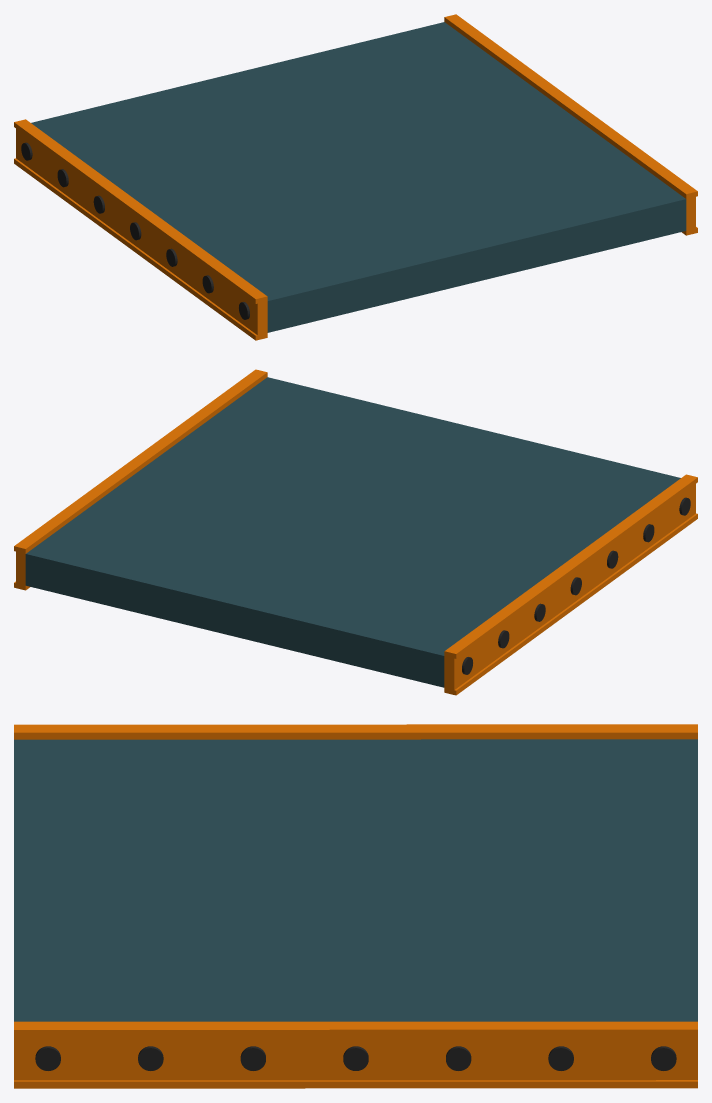
The model's file is ConveyorBeltVisual.fbx.
The picture shows the model from 3 angles, top to bottom: view 1: azimuth 30°, elevation 25°; view 2: azimuth 150°, elevation 25°; view 3: azimuth 270°, elevation 25°; orthographic projection. The views are drawn at different scales.
Parts seen in each view (by area): view 1: Belt, Screws; view 2: Belt, Screws; view 3: Belt, Screws.
Boxes of the visible parts, left/top/right/bottom form: Belt: left=14, top=14, right=697, bottom=340; Screws: left=21, top=142, right=249, bottom=319; Belt: left=14, top=369, right=697, bottom=695; Screws: left=462, top=497, right=690, bottom=674; Belt: left=14, top=724, right=697, bottom=1088; Screws: left=35, top=1046, right=676, bottom=1070.
Size of the model in its own units: 106 by 9.5 by 100.
